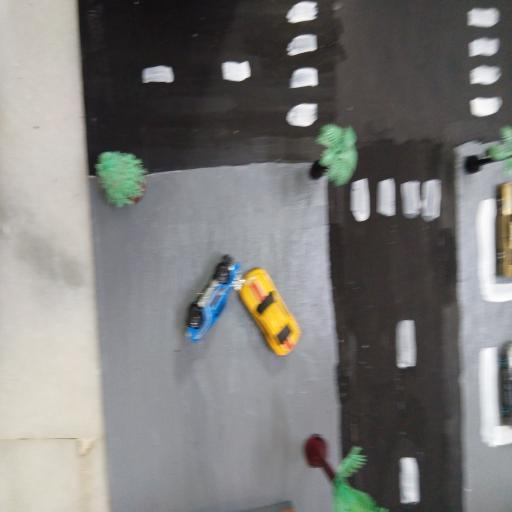car crash: (183, 252, 303, 362)
